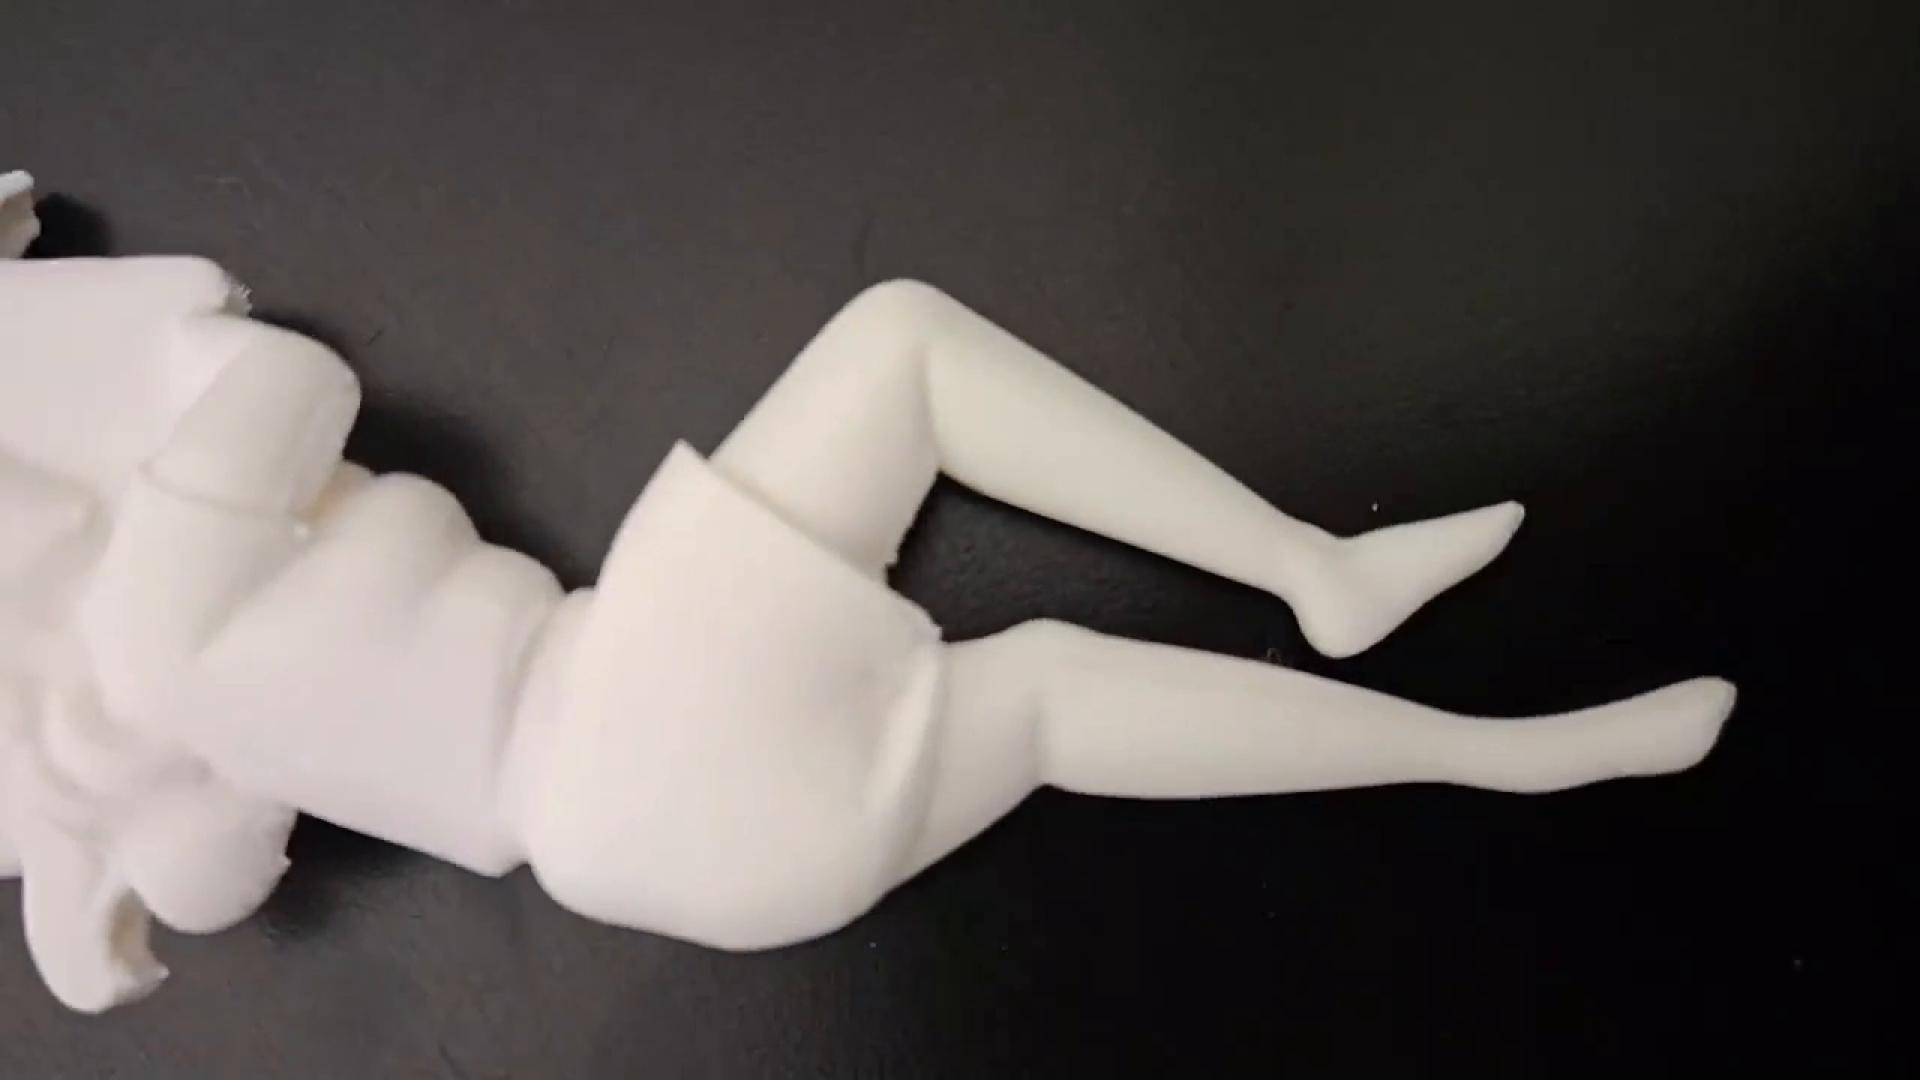Good-style: (0, 165, 1747, 1027)
